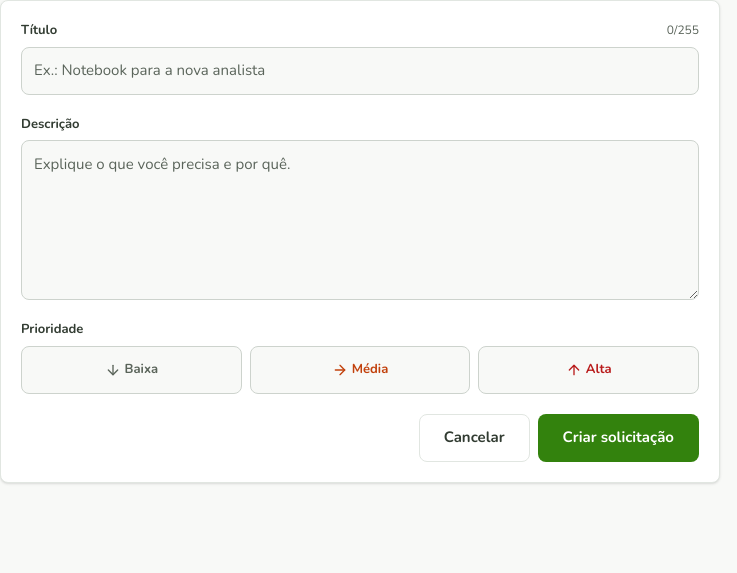
RequestForm validation › clears a field's error when the user changes it
Click the button "Criar solicitação".
click(618, 438)  # box [538, 414, 699, 462]
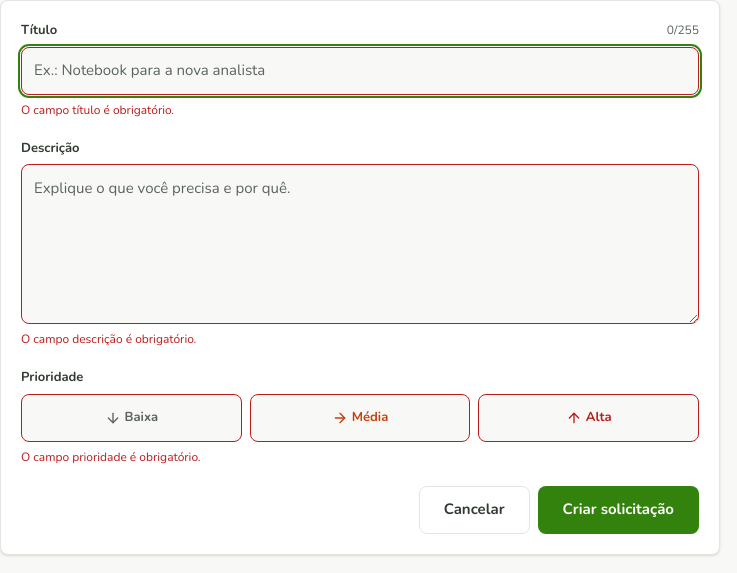
Type "a" into the field labelled "Título".
click(360, 70); type("a")  # box [21, 46, 699, 94]
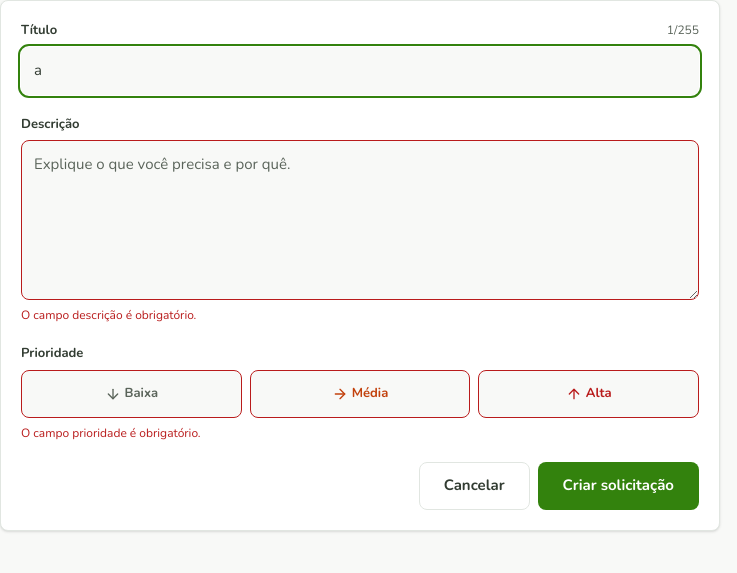
expect the text "O campo título é obrigatório." is gone: met
Click the radio button labelled "Média".
click(360, 394)  # box [250, 370, 470, 418]
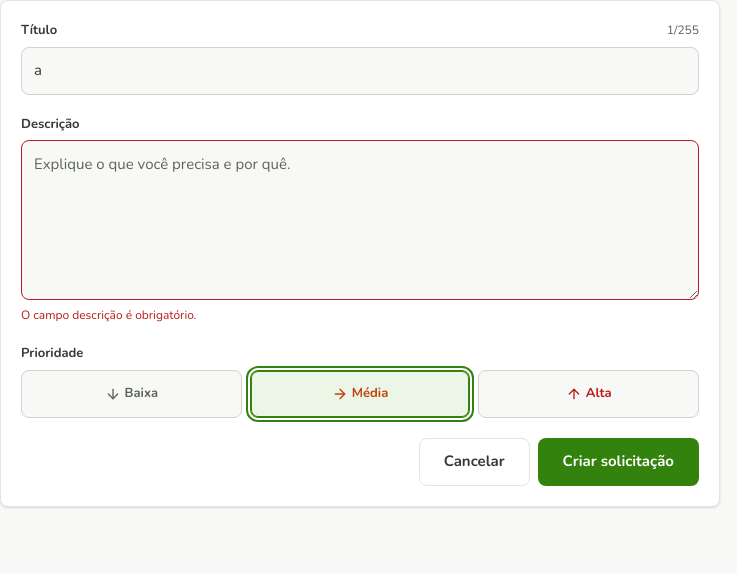
expect the text "O campo descrição é obrigatório." is shown: met, box [21, 307, 196, 323]
expect the text "O campo prioridade é obrigatório." is gone: met
